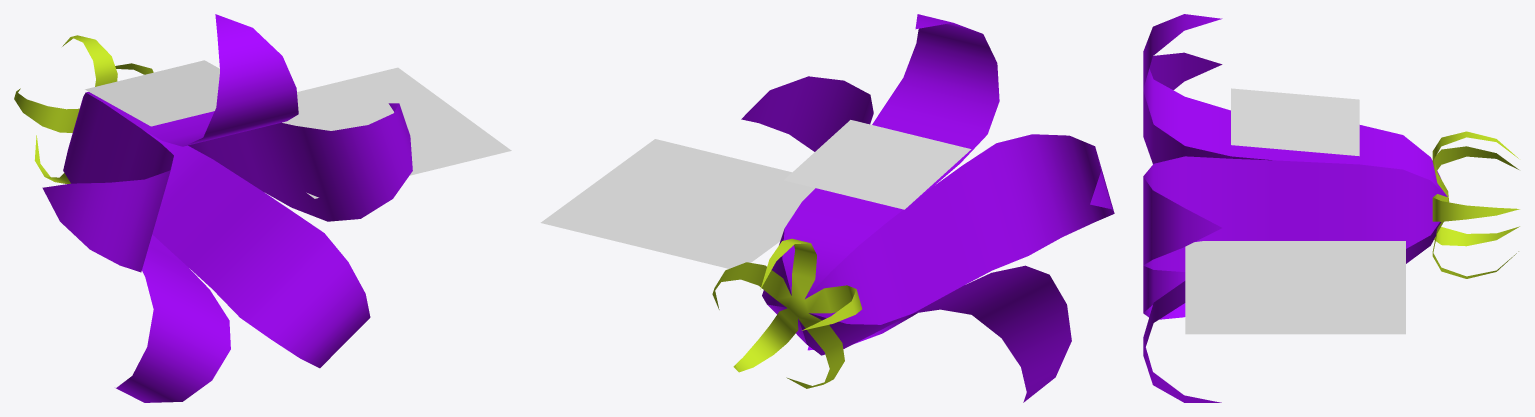
The model's file is flower.fbx.
The picture shows the model from 3 angles, left to right: view 1: azimuth 30°, elevation 25°; view 2: azimuth 150°, elevation 25°; view 3: azimuth 270°, elevation 25°; orthographic projection. The views are drawn at different scales.
Visible parts, largest first — view 1: flower; view 2: flower; view 3: flower.
Boxes of the visible parts, bbox=[...] form: flower: bbox=[14, 14, 511, 402]; flower: bbox=[540, 14, 1114, 402]; flower: bbox=[1143, 14, 1519, 402].
Bounding box in the file's own units: 31.72 × 23.61 × 23.67.
